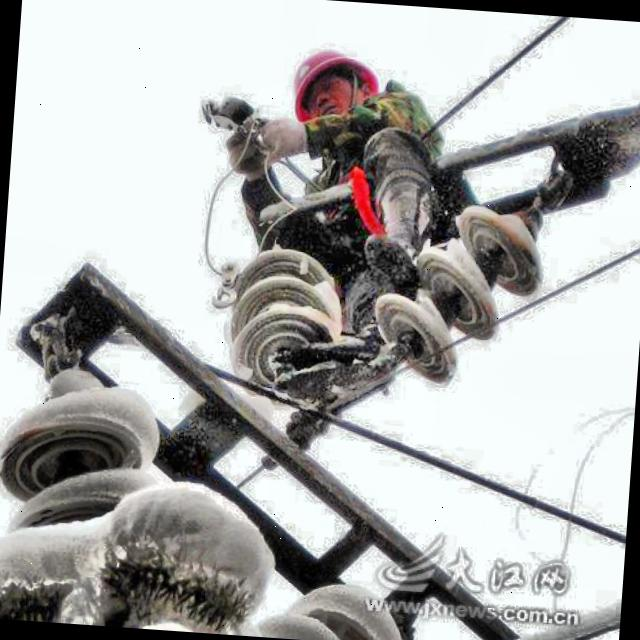helmet: (276, 26, 396, 150)
